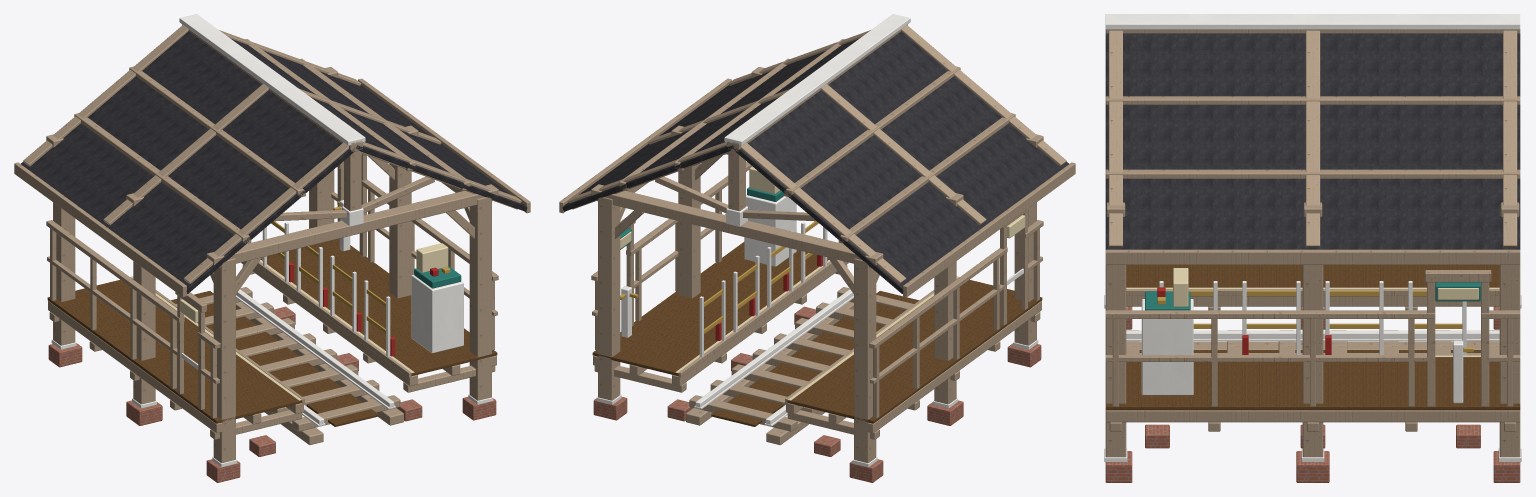
The model's file is timber-station.glb.
3 renders of one model, left to right at view 1: azimuth 30°, elevation 25°; view 2: azimuth 150°, elevation 25°; view 3: azimuth 270°, elevation 25°, orthographic. The views are drawn at different scales.
Parts seen in each view (by area): view 1: Static_StationRoot_timber.001, Static_StationRoot_roof, Static_StationRoot_boards.001, Static_StationRoot_metal, Static_StationRoot_brick, Static_StationRoot_cream, Static_StationRoot_brass, Static_StationRoot_paint_teal; view 2: Static_StationRoot_timber.001, Static_StationRoot_roof, Static_StationRoot_boards.001, Static_StationRoot_metal, Static_StationRoot_brick, Static_StationRoot_cream, Static_StationRoot_brass; view 3: Static_StationRoot_roof, Static_StationRoot_timber.001, Static_StationRoot_boards.001, Static_StationRoot_metal, Static_StationRoot_brick, Static_StationRoot_brass, Static_StationRoot_cream, Static_StationRoot_paint_teal.
Part boxes in pixels (bbox=[...]): Static_StationRoot_timber.001: bbox=[14, 24, 530, 462]; Static_StationRoot_roof: bbox=[21, 31, 527, 293]; Static_StationRoot_boards.001: bbox=[47, 239, 497, 426]; Static_StationRoot_metal: bbox=[51, 14, 493, 467]; Static_StationRoot_brick: bbox=[48, 306, 496, 482]; Static_StationRoot_cream: bbox=[130, 243, 448, 400]; Static_StationRoot_brass: bbox=[271, 201, 450, 333]; Static_StationRoot_paint_teal: bbox=[414, 266, 461, 288]; Static_StationRoot_timber.001: bbox=[559, 24, 1075, 462]; Static_StationRoot_roof: bbox=[562, 31, 1068, 293]; Static_StationRoot_boards.001: bbox=[592, 242, 1042, 426]; Static_StationRoot_metal: bbox=[596, 14, 1038, 467]; Static_StationRoot_brick: bbox=[593, 306, 1041, 482]; Static_StationRoot_cream: bbox=[620, 166, 1025, 400]; Static_StationRoot_brass: bbox=[620, 221, 818, 333]; Static_StationRoot_roof: bbox=[1105, 33, 1520, 249]; Static_StationRoot_timber.001: bbox=[1105, 29, 1520, 457]; Static_StationRoot_boards.001: bbox=[1105, 265, 1520, 410]; Static_StationRoot_metal: bbox=[1104, 14, 1521, 462]; Static_StationRoot_brick: bbox=[1105, 306, 1520, 482]; Static_StationRoot_brass: bbox=[1157, 290, 1473, 352]; Static_StationRoot_cream: bbox=[1126, 268, 1499, 357]; Static_StationRoot_paint_teal: bbox=[1145, 282, 1480, 310].
Bounding box in the file's own units: 4.76 × 4.05 × 4.02.
Materials: 9 (5 with a texture image).
